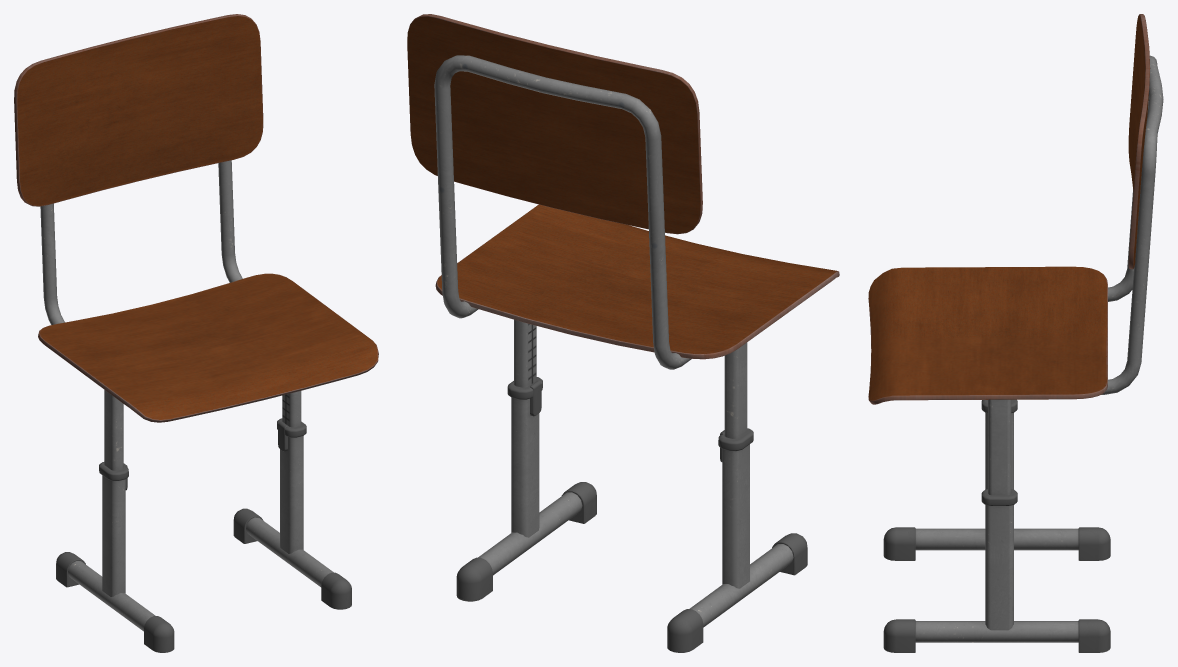
The model's file is Chair_03.FBX.
3 views of the same model, side by side, from view 1: azimuth 30°, elevation 25°; view 2: azimuth 150°, elevation 25°; view 3: azimuth 270°, elevation 25° (orthographic). The views are drawn at different scales.
Parts seen in each view (by area): view 1: Chair_03; view 2: Chair_03; view 3: Chair_03.
Part boxes in pixels (box(x1,y1,x2,y2)): Chair_03: box(14, 14, 378, 652); Chair_03: box(407, 14, 839, 652); Chair_03: box(868, 14, 1163, 652).
Bounding box in the file's own units: 42.58 × 82.14 × 41.1.
